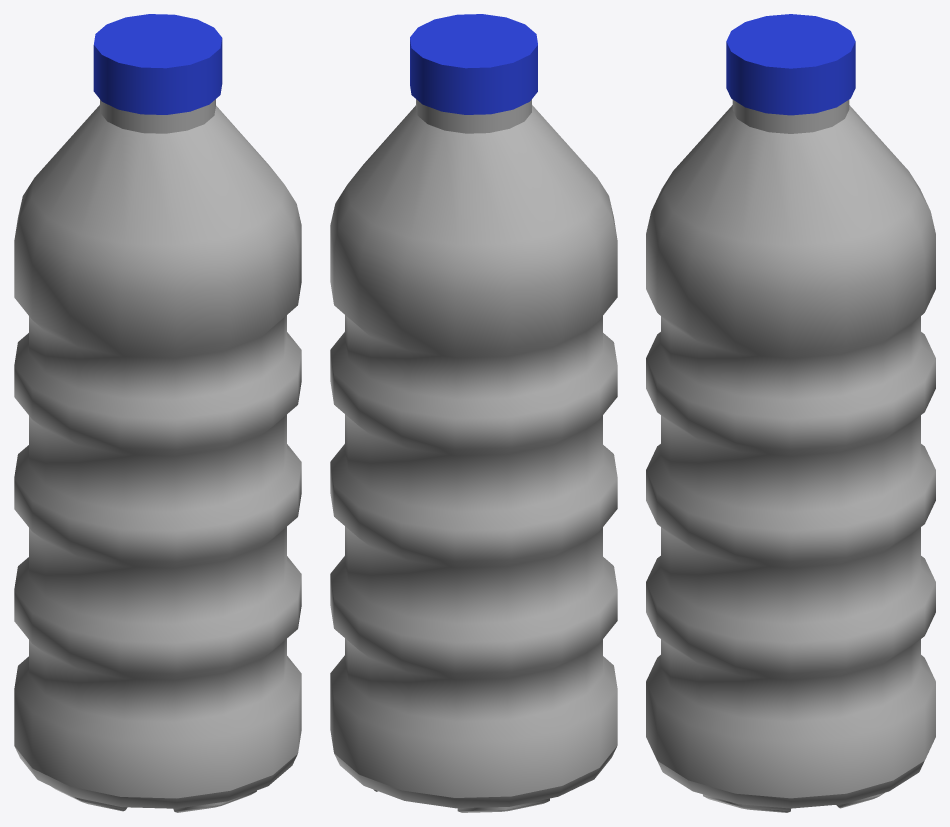
The model's file is Bottle.fbx.
The picture shows the model from 3 angles, left to right: view 1: azimuth 30°, elevation 25°; view 2: azimuth 150°, elevation 25°; view 3: azimuth 270°, elevation 25°; orthographic projection.
Parts seen in each view (by area): view 1: Cylinder; view 2: Cylinder; view 3: Cylinder.
Part boxes in pixels (box(x1,y1,x2,y2)): Cylinder: box(14, 14, 301, 812); Cylinder: box(330, 14, 617, 812); Cylinder: box(646, 14, 935, 812).
Size of the model in its own units: 116 by 320 by 116.
